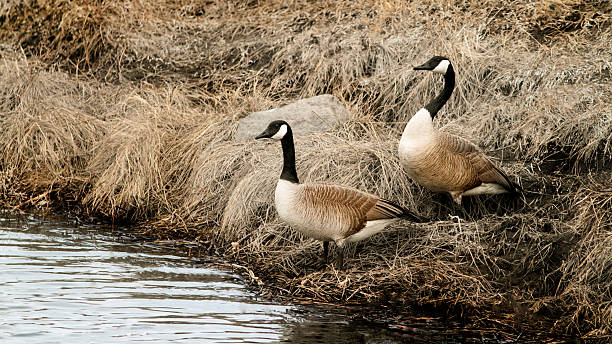goose: (251, 117, 430, 268), (396, 52, 524, 216)
